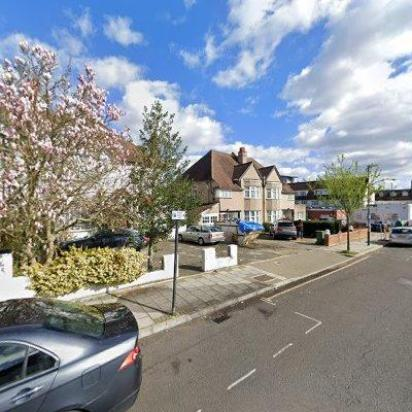stationary-car-offstreet: (56, 227, 142, 254), (176, 223, 226, 245), (270, 220, 296, 240)
stationary-car-onstreet: (0, 294, 146, 412), (388, 225, 412, 244)
x_other: (213, 219, 265, 247)
